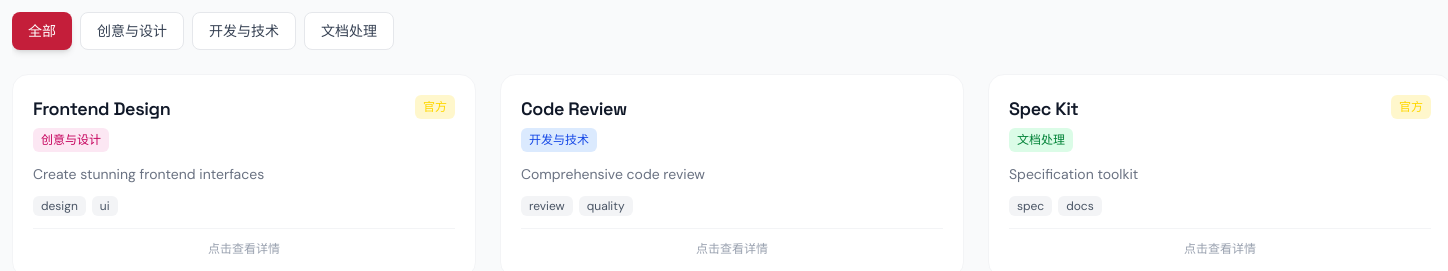
Test: SkillCardGrid › filters cards by category
The width and height of the screenshot is (1448, 271).
Note: Click the filter tab button (first match is the button)
Click the button "创意与设计": coordinates (132, 31) x1=80 y1=12 x2=184 y2=50
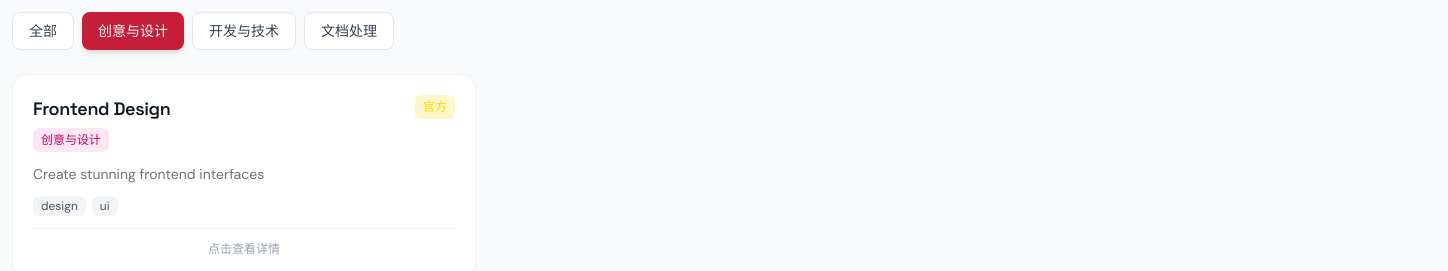
Expected: the heading "Frontend Design" is shown, x1=33 y1=97 x2=170 y2=120
Expected: the heading "Code Review" is gone
Expected: the heading "Spec Kit" is gone
